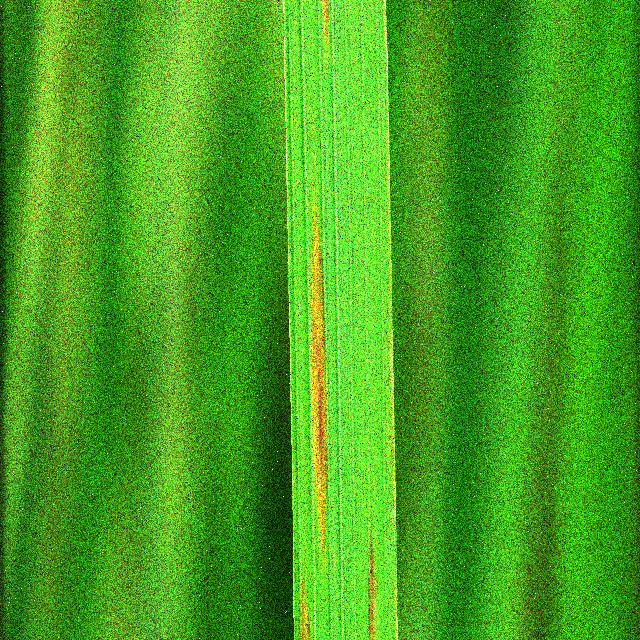NBS: (310, 208, 327, 550), (368, 542, 375, 640), (301, 579, 310, 640), (321, 0, 329, 40)
